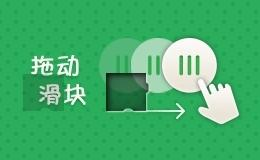target: (86, 54, 126, 92)
